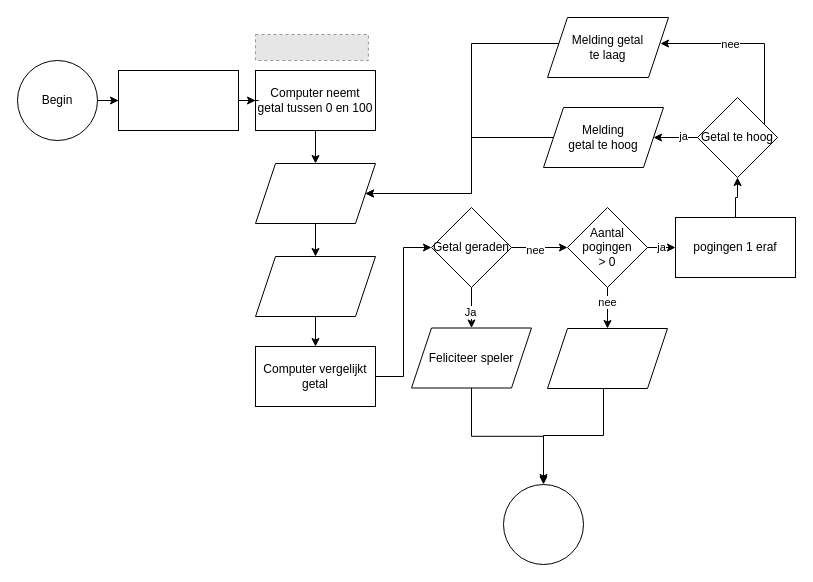
Image size: 813x582. Some labels were removed from this diagram. Grey dashed boxes stand in for pictures. The box of each missing label's shape, as (x1, y1, x2, y2) in pixels:
Aantal Pogingen = 8: (118, 70, 238, 130)
Einde: (502, 484, 584, 564)
Melding scherm met aantal open pogingen: (254, 162, 376, 224)
Speler voert getal in: (254, 256, 376, 316)
Toon op scherm. Jammer, het getal was.....: (546, 328, 668, 388)
